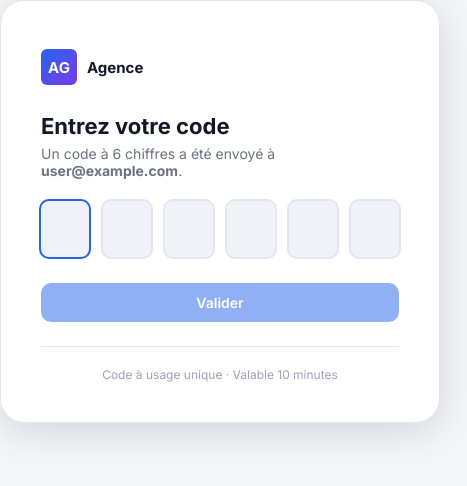
OtpContent (E03) › shows error on invalid code
The width and height of the screenshot is (467, 486).
In the field named "Chiffre 1": (65, 229) [39,199,91,259], type "1"
In the field named "Chiffre 2": (127, 229) [101,199,153,259], type "1"
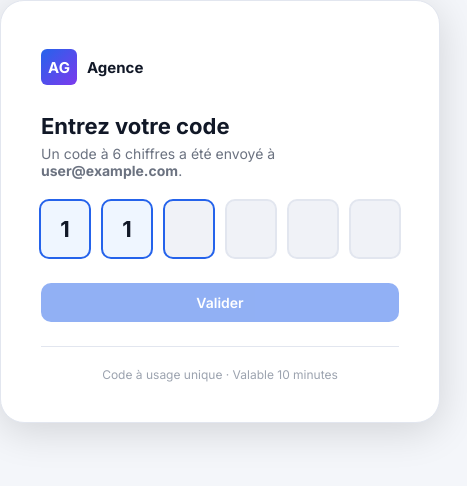
In the field named "Chiffre 3": (189, 229) [163,199,215,259], type "1"
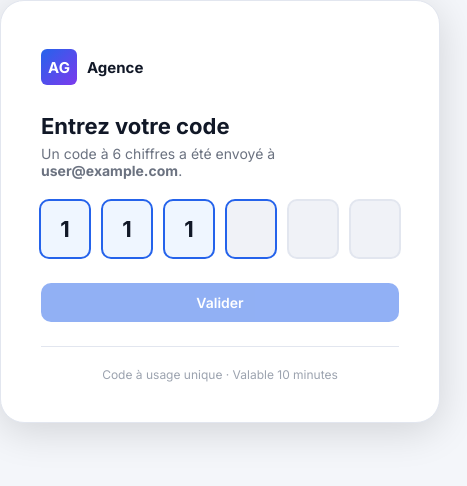
In the field named "Chiffre 4": (251, 229) [225,199,277,259], type "1"
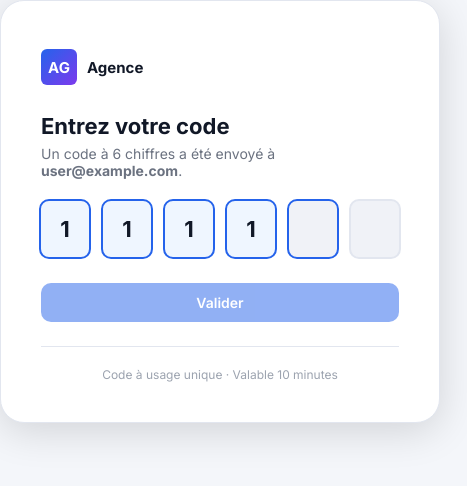
In the field named "Chiffre 5": (313, 229) [287,199,339,259], type "1"
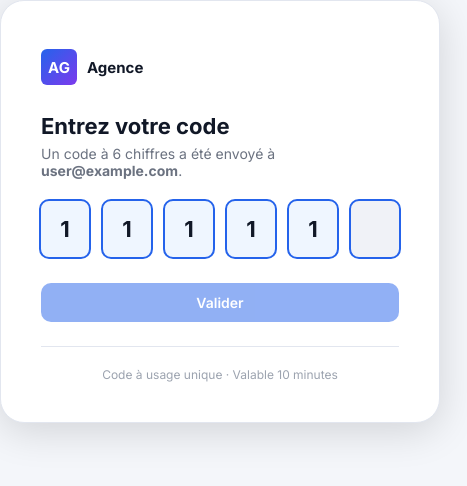
In the field named "Chiffre 6": (375, 229) [349,199,401,259], type "1"
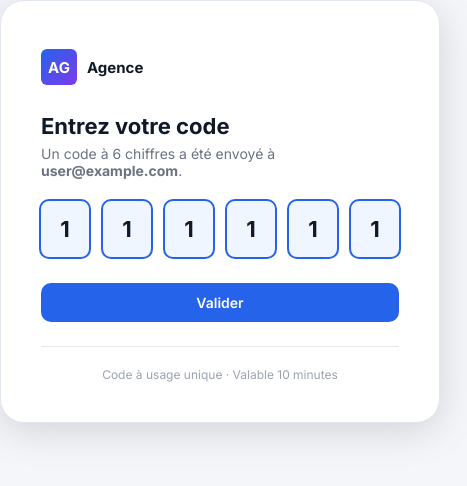
Click the button "Valider": click(220, 302) [41,283,399,322]
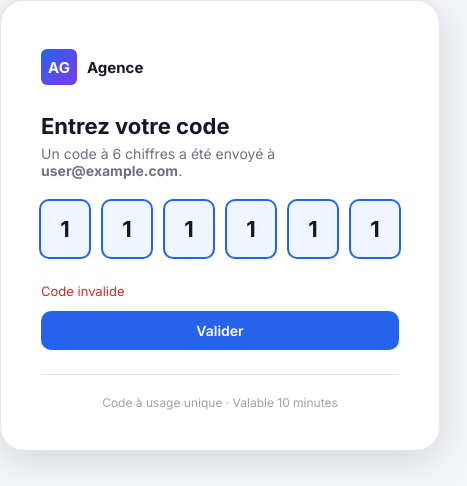
Now the message reads "Code invalide", box [41,283,124,299]
